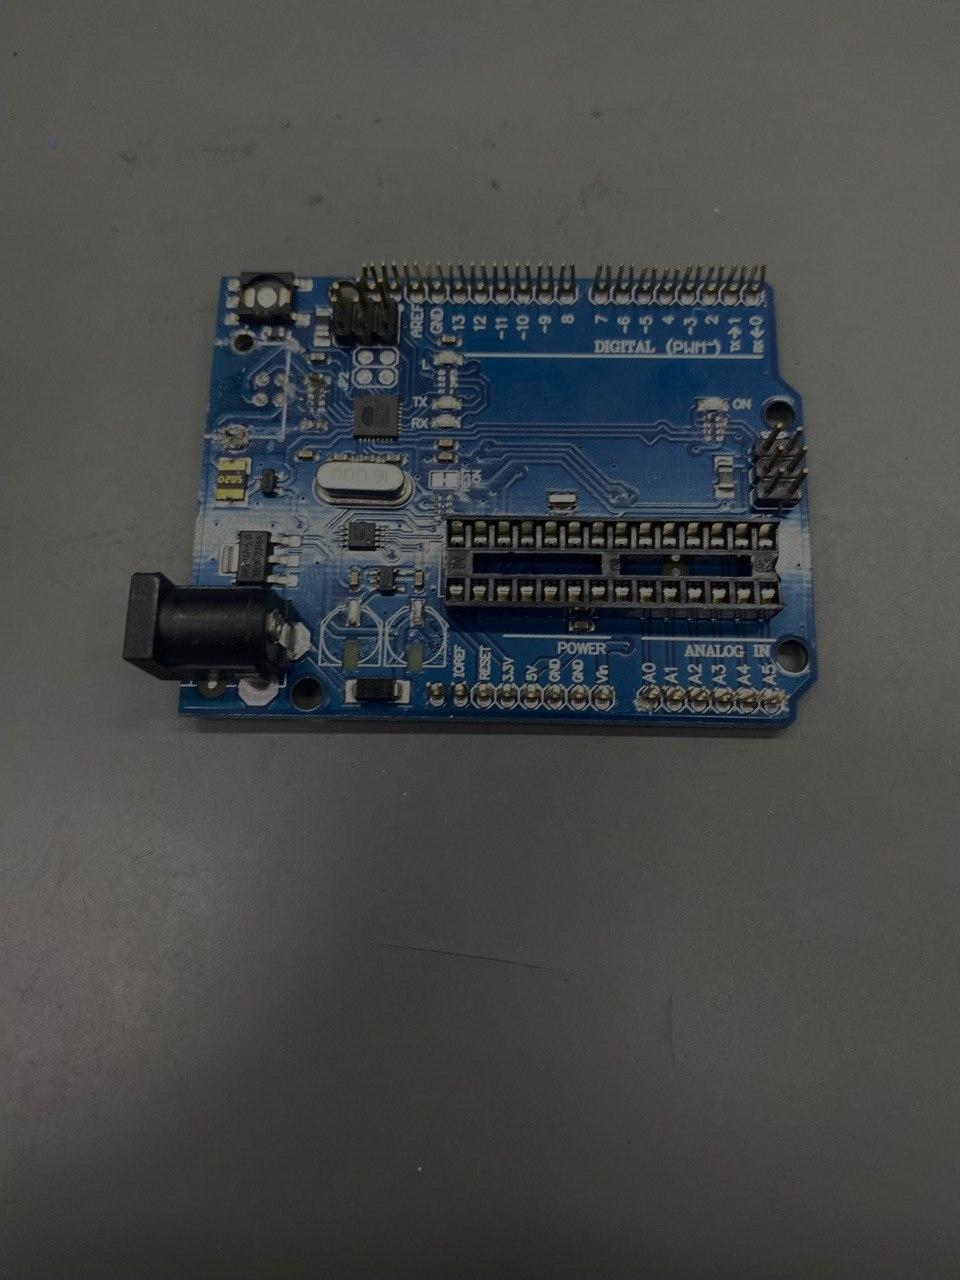Arduino board: (123, 261, 819, 729)
